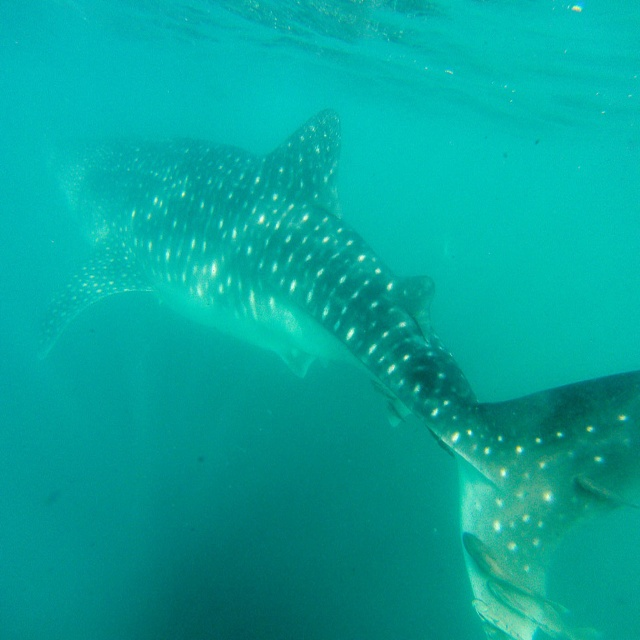Shark: (37, 108, 640, 640)
